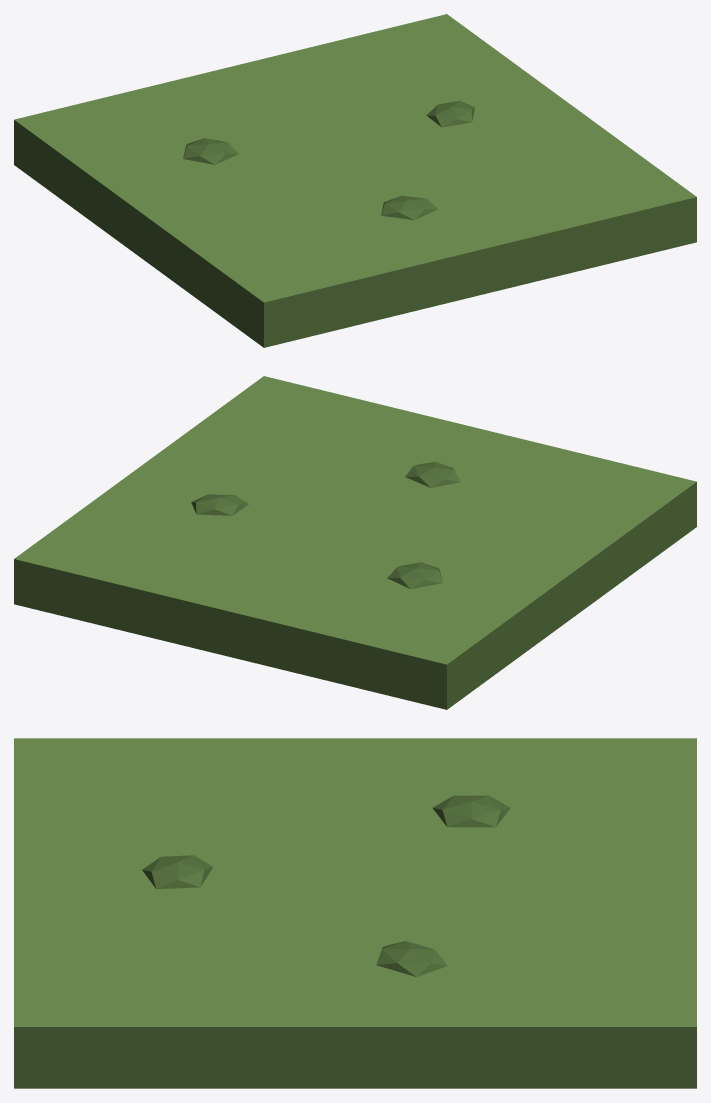
File: sakura_floor_moss.glb
The picture shows the model from 3 angles, top to bottom: view 1: azimuth 30°, elevation 25°; view 2: azimuth 150°, elevation 25°; view 3: azimuth 270°, elevation 25°; orthographic projection. The views are drawn at different scales.
Visible parts, largest first — view 1: sakura_floor_moss; view 2: sakura_floor_moss; view 3: sakura_floor_moss.
Part boxes in pixels (x1,y1,x2,y2): sakura_floor_moss: [14, 14, 696, 347]; sakura_floor_moss: [14, 376, 696, 709]; sakura_floor_moss: [14, 738, 696, 1088].
Bounding box in the file's own units: 1 × 0.1188 × 1.
1 material, 1 textured.
